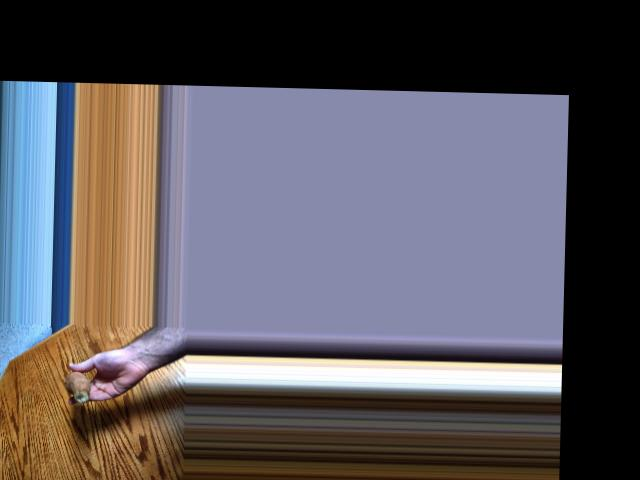sweet_potato: (54, 366, 90, 403)
